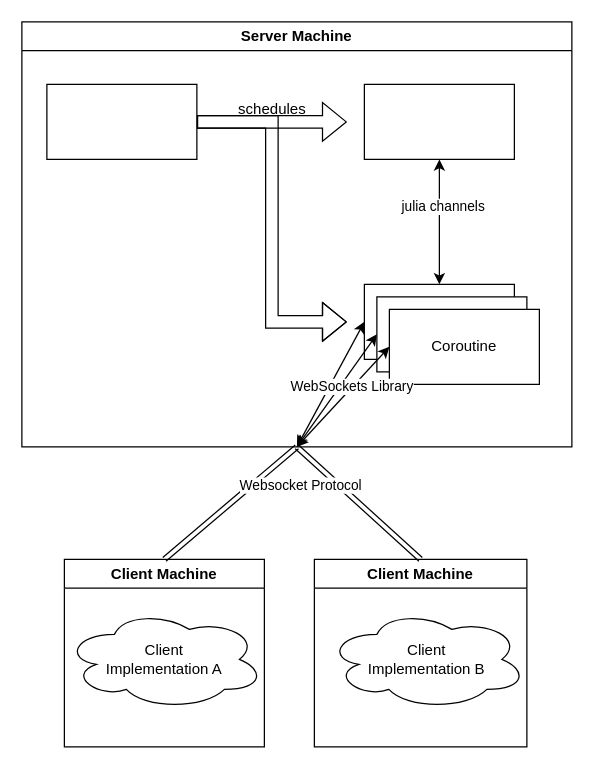
Image size: 594x769. Some labels were removed from this diagram. The shapes that lost their labels are listed below. From the top down, each one's centre as x and y in pixels, then its label:
At pixel 121 121: "Server".
At pixel 438 121: "Controller".
